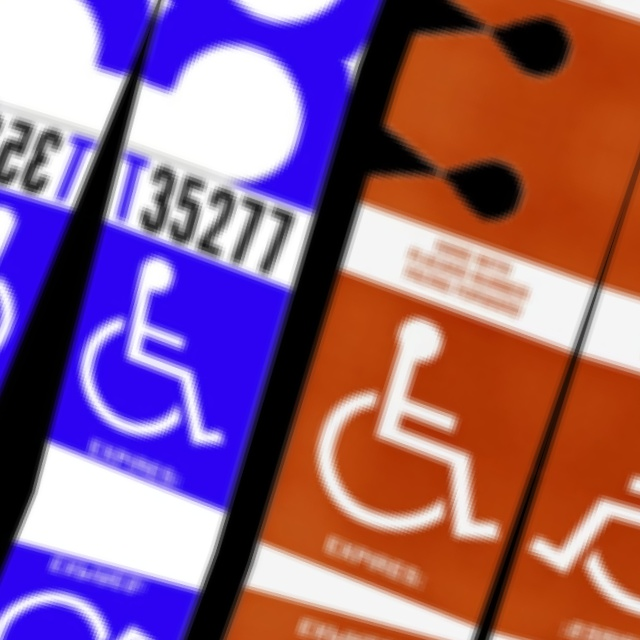ISA: (271, 280, 571, 582), (50, 238, 274, 469), (504, 357, 640, 640), (0, 167, 58, 398), (0, 564, 166, 640), (158, 621, 458, 640)
